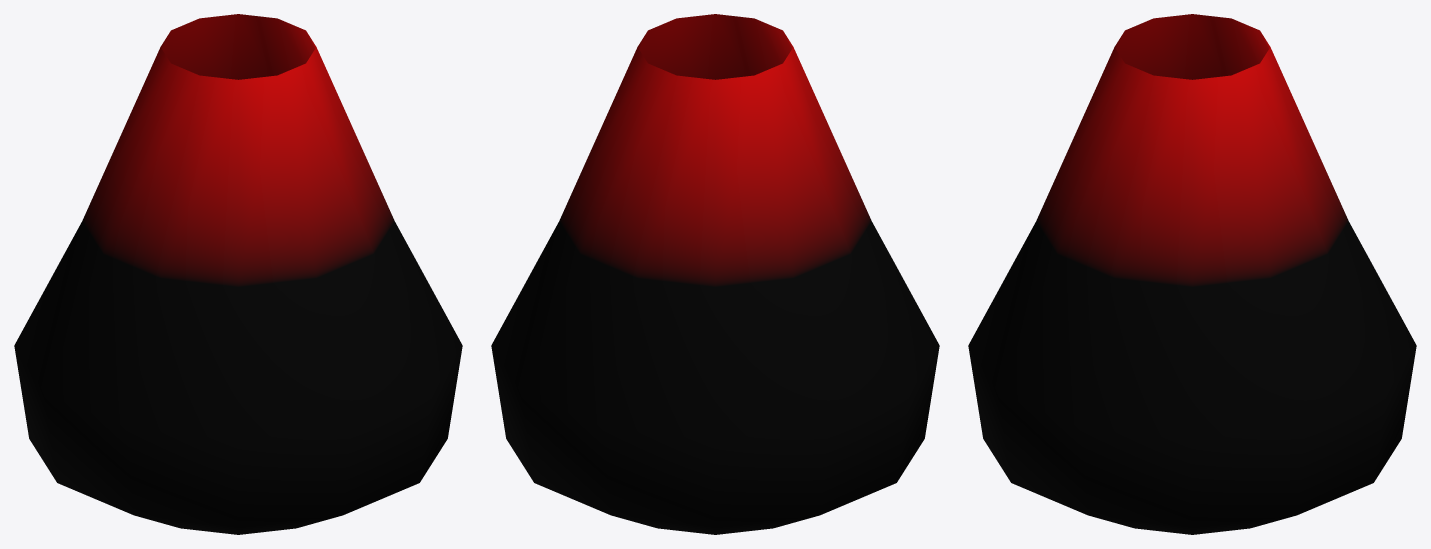
File: FX_FireMesh_01.fbx
The picture shows the model from 3 angles, left to right: view 1: azimuth 30°, elevation 25°; view 2: azimuth 150°, elevation 25°; view 3: azimuth 270°, elevation 25°; orthographic projection.
Parts seen in each view (by area): view 1: FX_FireMesh_01; view 2: FX_FireMesh_01; view 3: FX_FireMesh_01.
Boxes of the visible parts, bbox=[...] form: FX_FireMesh_01: bbox=[14, 14, 462, 534]; FX_FireMesh_01: bbox=[491, 14, 939, 534]; FX_FireMesh_01: bbox=[968, 14, 1416, 534].
Bounding box in the file's own units: 0.9045 × 0.9771 × 0.9045.
